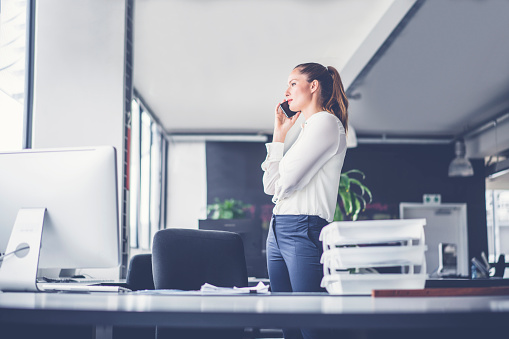em pe: (252, 60, 350, 302)
